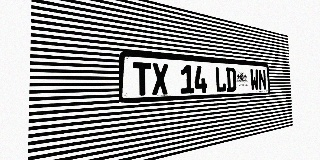1: (180, 65, 194, 94)
4: (194, 65, 207, 93)
D: (226, 67, 236, 92)
L: (215, 67, 226, 92)
N: (258, 69, 266, 90)
T: (133, 62, 152, 96)
W: (250, 69, 259, 91)
X: (152, 63, 169, 95)
